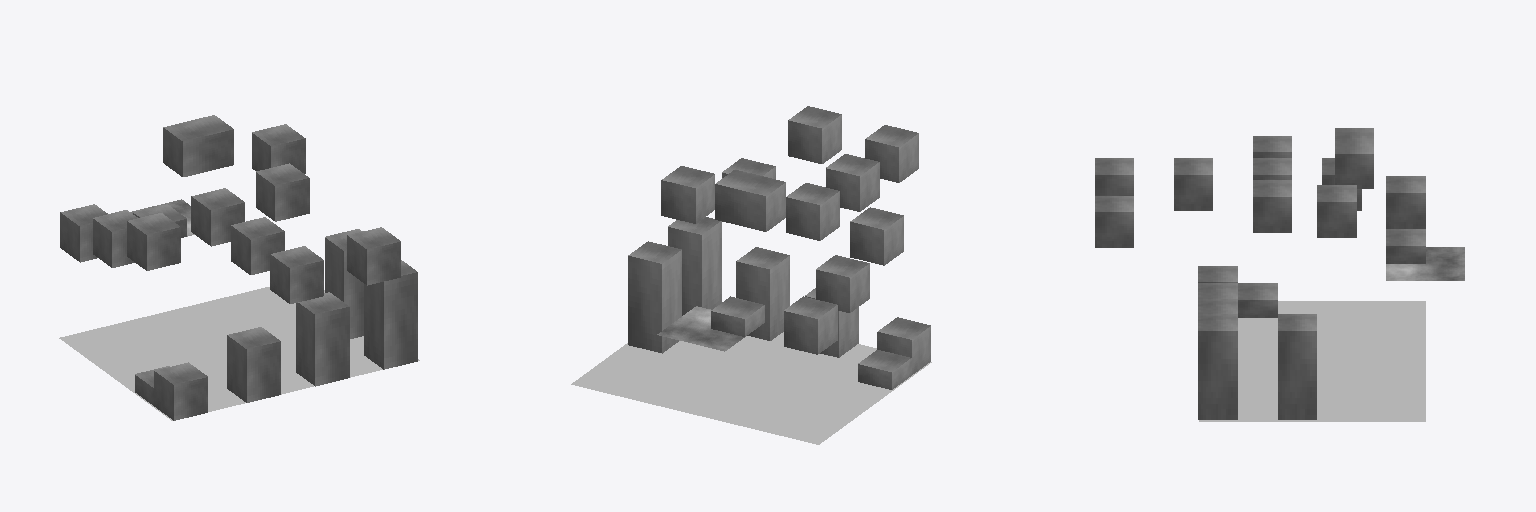
3 views of the same model, side by side, from view 1: azimuth 30°, elevation 25°; view 2: azimuth 150°, elevation 25°; view 3: azimuth 270°, elevation 25° (orthographic).
Visible parts, largest first — view 1: 平面; view 2: 平面; view 3: 平面.
Boxes of the visible parts, <box> form: 平面: <box>59,115,419,420</box>; 平面: <box>571,106,931,444</box>; 平面: <box>1095,128,1464,421</box>.
Size of the model in its own units: 29 by 23.5 by 37.5.
Materials: 2 (1 with a texture image).